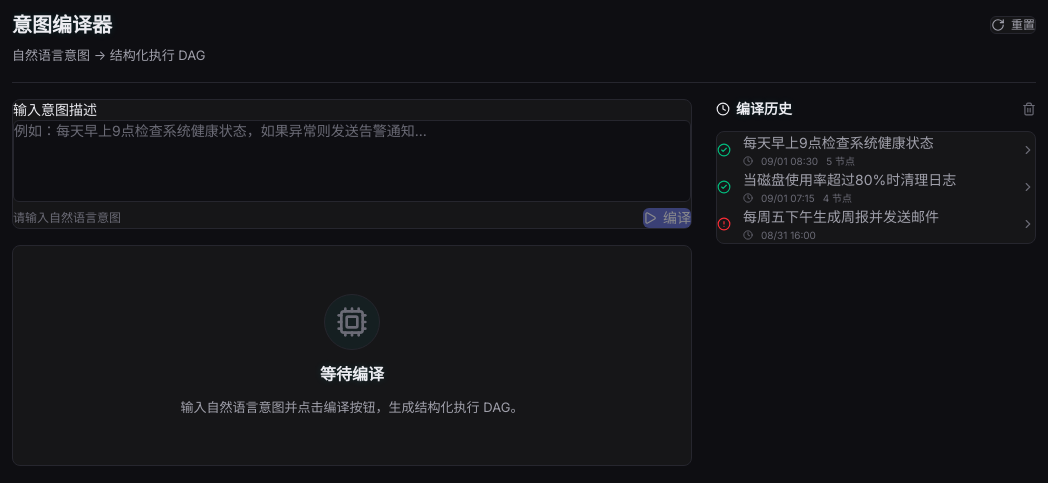
IntentCompiler › error handling › displays error state when compilation fails
This screenshot has width=1048, height=483.
Type "测试意图" into the text box with test id "intent-input" at (352, 160), box [13,120,691,202]
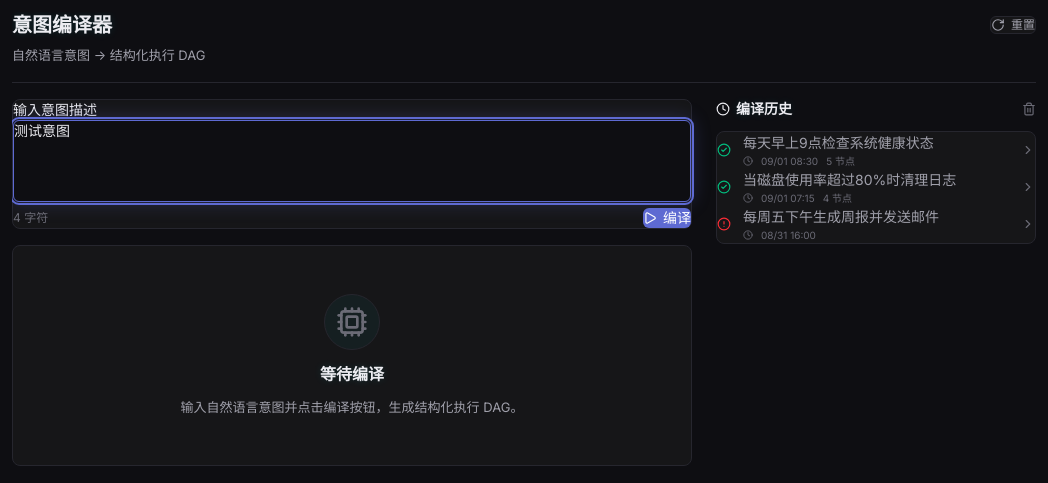
Click the button with test id "compile-btn" at (667, 218), box [643,208,691,228]
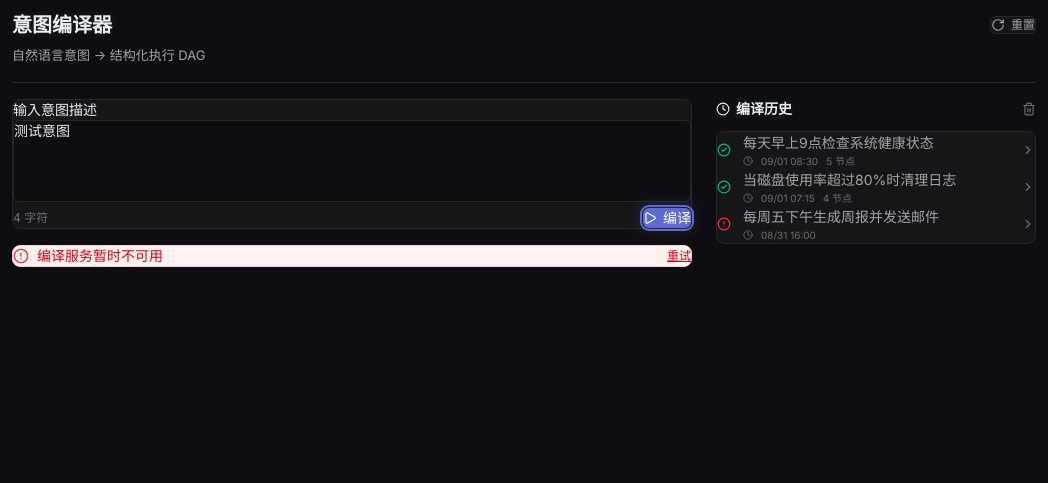
Result: the message "编译服务暂时不可用 重试" is shown at [12,244,692,266]
Result: the text "编译服务暂时不可用" is shown at [37,246,163,264]
